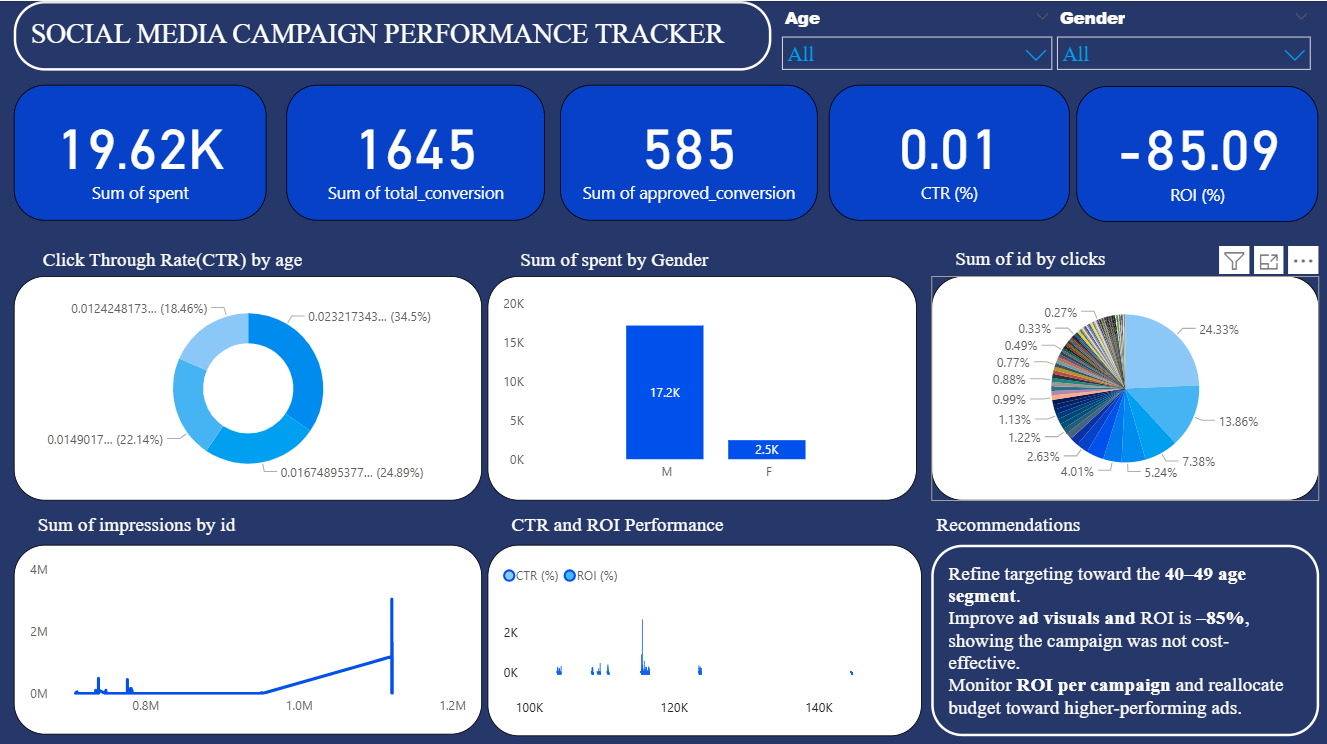

This screenshot's page, from the dashboard's own definition file:
{"tool":"powerbi","page":{"name":"Page 1","canvas":[1280,720],"ordinal":0},"visuals":[{"type":"textbox","box":[13.3,0,731.1,67.6],"z":0},{"type":"slicer","fields":{"Values":["data (3).age"]},"box":[744.4,0,281.1,67.6],"z":1000},{"type":"slicer","fields":{"Values":["data (3).gender"]},"box":[1009.8,0,265.4,67.6],"z":2000},{"type":"card","fields":{"Values":["Sum(data (3).spent)"]},"box":[13,80.9,244.1,131.4],"z":3000},{"type":"card","fields":{"Values":["Sum(data (3).total_conversion)"]},"box":[275.9,80.9,249.9,131.4],"z":4000},{"type":"card","fields":{"Values":["Sum(data (3).approved_conversion)"]},"box":[540.2,80.9,248.4,131.4],"z":5000},{"type":"card","fields":{"Values":["data (3).CTR (%)"]},"box":[800.2,80.9,232.5,131.4],"z":6000},{"type":"lineChart","fields":{"Y":["Sum(data (3).impressions)"],"Category":["data (3).ad_id"]},"box":[13,524.3,452.1,183.4],"z":7000},{"type":"columnChart","fields":{"Category":["data (3).gender"],"Y":["Sum(data (3).spent)"]},"box":[470.9,265.8,414.5,216.7],"z":8000},{"type":"pieChart","fields":{"Y":["Sum(data (3).ad_id)"],"Category":["data (3).clicks"]},"box":[898.4,265.8,374.1,216.7],"z":9000},{"type":"donutChart","fields":{"Category":["data (3).age"],"Y":["data (3).CTR (%)"]},"box":[13,265.8,452.1,216.7],"z":10000},{"type":"textbox","box":[36.2,234,266.6,31.4],"z":11000},{"type":"textbox","box":[916.9,232.8,185.8,37.4],"z":12000},{"type":"textbox","box":[497.1,234,199.1,35],"z":13000},{"type":"card","fields":{"Values":["data (3).ROI (%)"]},"box":[1038.5,82.3,234,131.4],"z":14000},{"type":"textbox","box":[31.4,489.8,207.5,35],"z":15000},{"type":"clusteredColumnChart","fields":{"Category":["data (3).fb_campaign_id"],"Y":["data (3).CTR (%)","data (3).ROI (%)"]},"box":[470.9,524.3,418.9,184.9],"z":16000},{"type":"textbox","box":[488.6,489.8,218.4,35],"z":17000},{"type":"textbox","box":[898.8,489.8,149.6,33.8],"z":18000},{"type":"textbox","box":[898.4,524.3,374.1,184.9],"z":19000}]}

Visuals, with their boxes in screenshot pixels (x1, y1, x2, y2), scaled from the page's 1280x720 canvas onto the 1327x744 screenshot:
textbox: box(14, 0, 772, 70)
slicer - data (3).age: box(772, 0, 1063, 70)
slicer - data (3).gender: box(1047, 0, 1322, 70)
card - Sum(data (3).spent): box(13, 84, 267, 219)
card - Sum(data (3).total_conversion): box(286, 84, 545, 219)
card - Sum(data (3).approved_conversion): box(560, 84, 818, 219)
card - data (3).CTR (%): box(830, 84, 1071, 219)
lineChart - Sum(data (3).impressions) x data (3).ad_id: box(13, 542, 482, 731)
columnChart - data (3).gender x Sum(data (3).spent): box(488, 275, 918, 499)
pieChart - Sum(data (3).ad_id) x data (3).clicks: box(931, 275, 1319, 499)
donutChart - data (3).age x data (3).CTR (%): box(13, 275, 482, 499)
textbox: box(38, 242, 314, 274)
textbox: box(951, 241, 1143, 279)
textbox: box(515, 242, 722, 278)
card - data (3).ROI (%): box(1077, 85, 1319, 221)
textbox: box(33, 506, 248, 542)
clusteredColumnChart - data (3).fb_campaign_id x data (3).CTR (%): box(488, 542, 922, 733)
textbox: box(507, 506, 733, 542)
textbox: box(932, 506, 1087, 541)
textbox: box(931, 542, 1319, 733)
